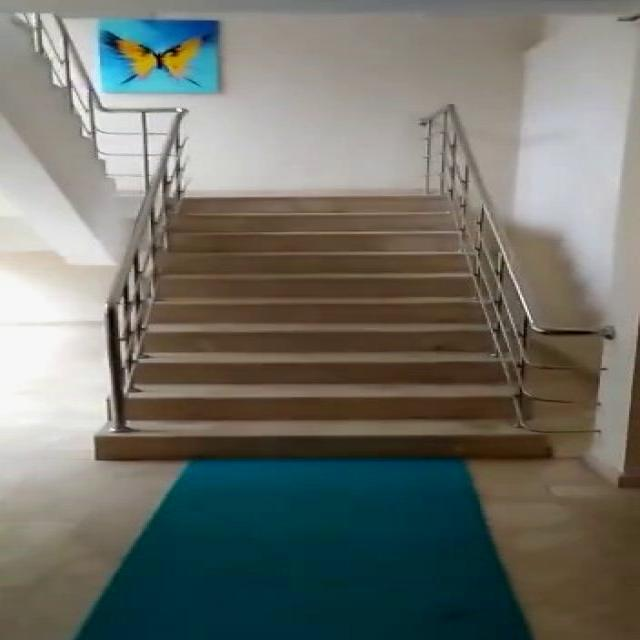stair: (114, 193, 576, 465)
